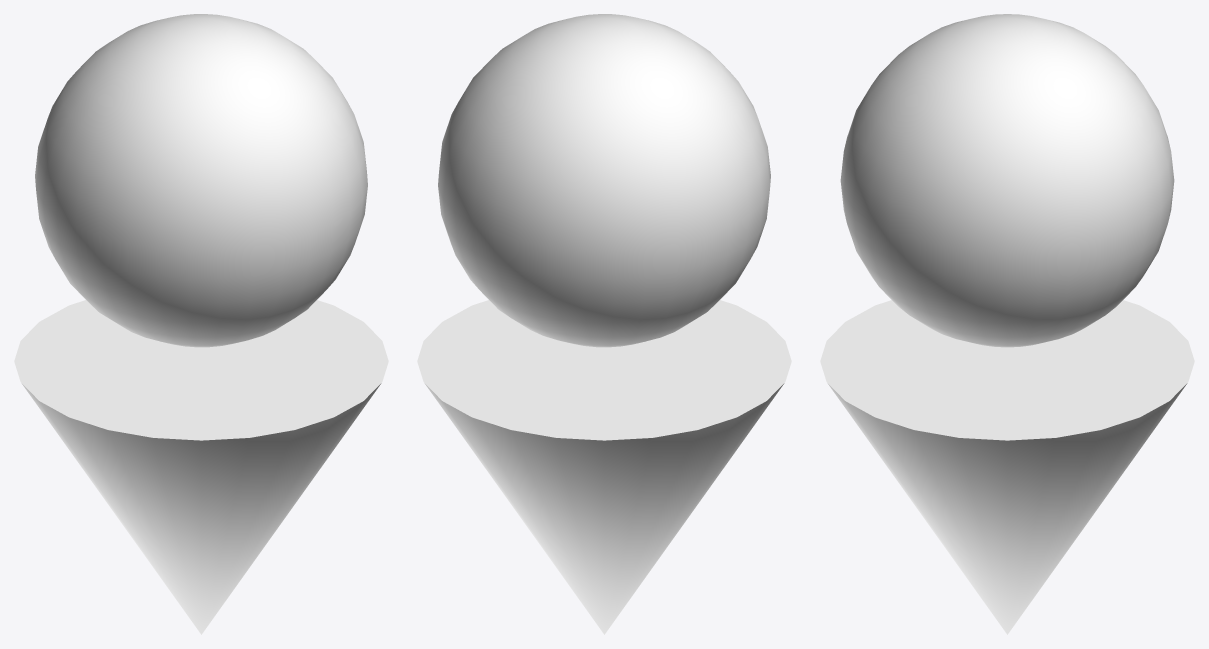
File: player.gltf
The picture shows the model from 3 angles, left to right: view 1: azimuth 30°, elevation 25°; view 2: azimuth 150°, elevation 25°; view 3: azimuth 270°, elevation 25°; orthographic projection.
Parts seen in each view (by area): view 1: Cone001; view 2: Cone001; view 3: Cone001.
Boxes of the visible parts, box(x1,y1,x2,y2) form: Cone001: box(14, 14, 388, 634); Cone001: box(417, 14, 791, 634); Cone001: box(820, 14, 1194, 634).
Size of the model in its own units: 0.5583 by 0.9957 by 0.5583.
1 material, 1 textured.
